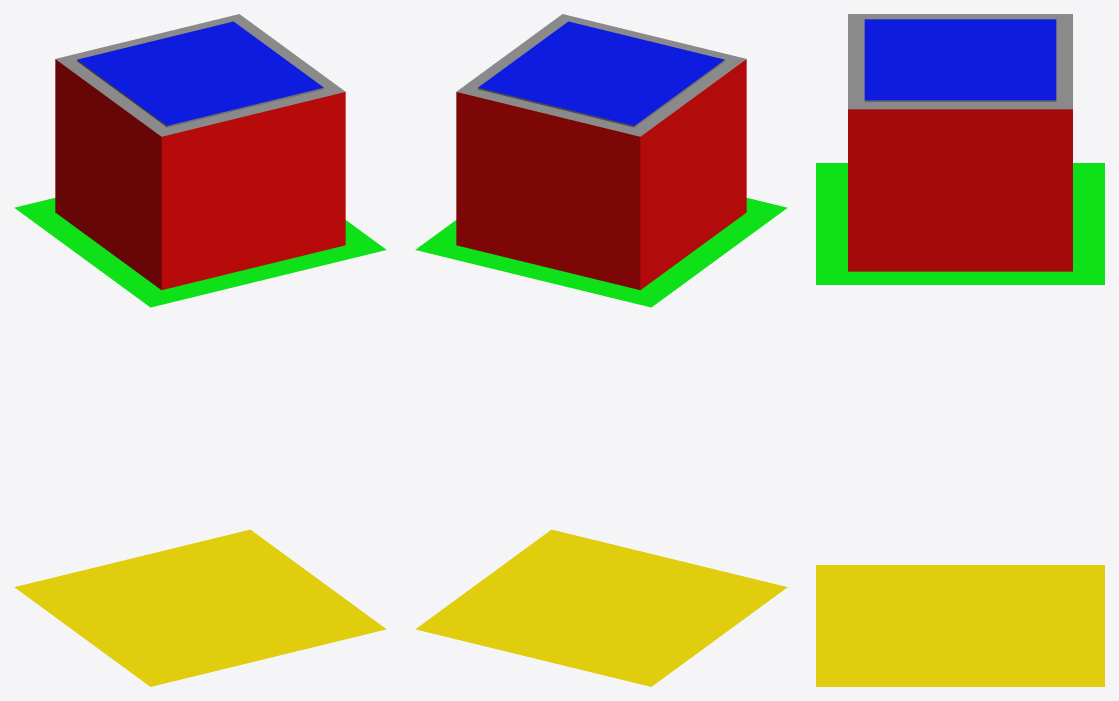
File: SM_Window_Ceiling.FBX
3 views of the same model, side by side, from view 1: azimuth 30°, elevation 25°; view 2: azimuth 150°, elevation 25°; view 3: azimuth 270°, elevation 25° (orthographic). The views are drawn at different scales.
Parts seen in each view (by area): view 1: SM_Window_Ceiling, SM_Glass_Ceiling; view 2: SM_Window_Ceiling, SM_Glass_Ceiling; view 3: SM_Window_Ceiling, SM_Glass_Ceiling.
Part boxes in pixels (x1,y1,x2,y2): SM_Window_Ceiling: [14, 14, 386, 686]; SM_Glass_Ceiling: [77, 21, 323, 125]; SM_Window_Ceiling: [415, 14, 787, 686]; SM_Glass_Ceiling: [478, 21, 724, 125]; SM_Window_Ceiling: [816, 14, 1104, 686]; SM_Glass_Ceiling: [864, 19, 1056, 100].
Size of the model in its own units: 2 by 4.33 by 2.
